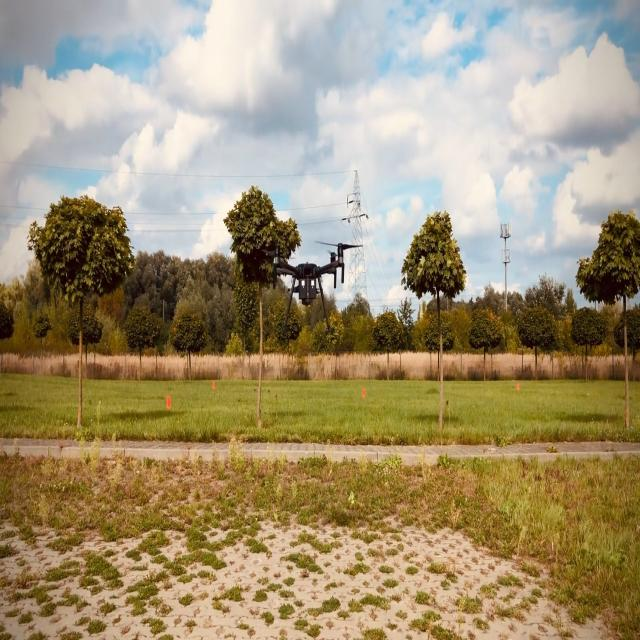drone: (268, 239, 364, 336)
